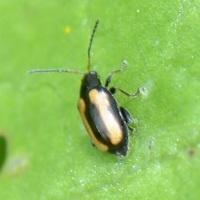insect: (27, 19, 132, 156)
